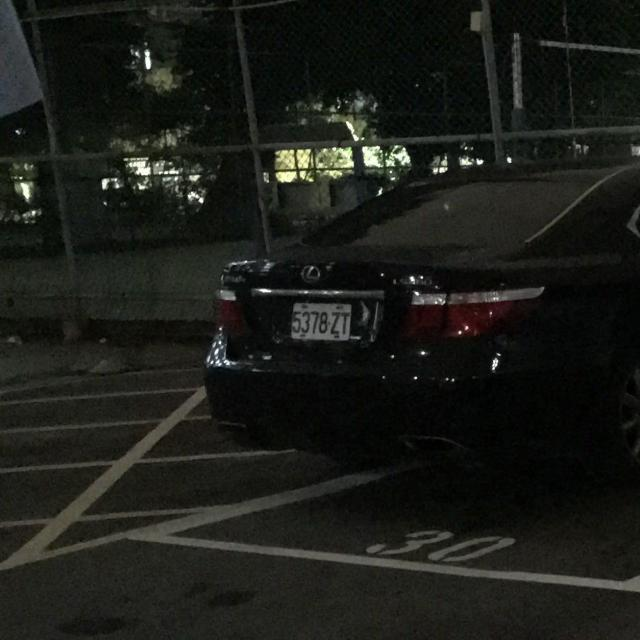W: (286, 292, 359, 346)
